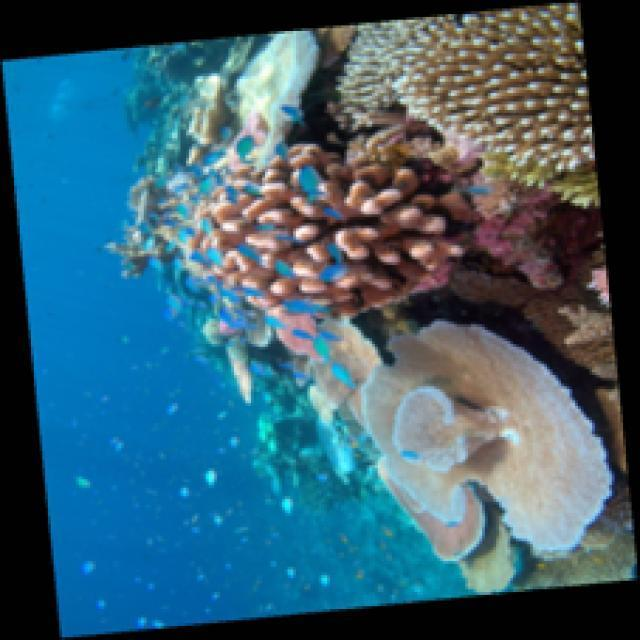Healthy: (359, 320, 619, 561), (180, 146, 485, 318), (395, 1, 600, 161), (233, 28, 325, 153), (384, 464, 487, 562), (304, 324, 387, 425), (480, 154, 605, 214), (456, 512, 519, 599), (270, 312, 320, 359)
